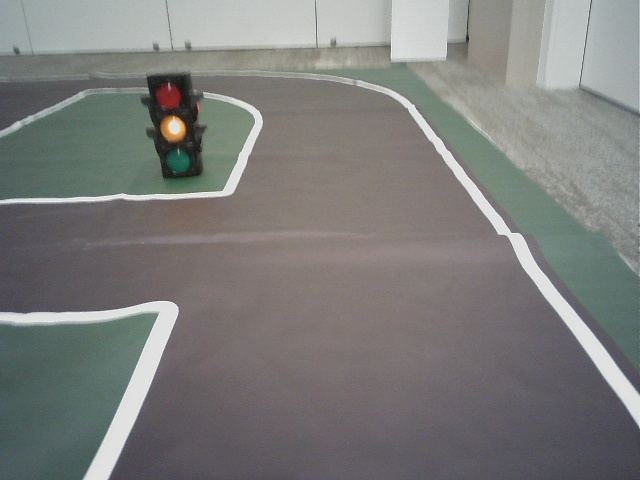yellow: (151, 76, 195, 174)
